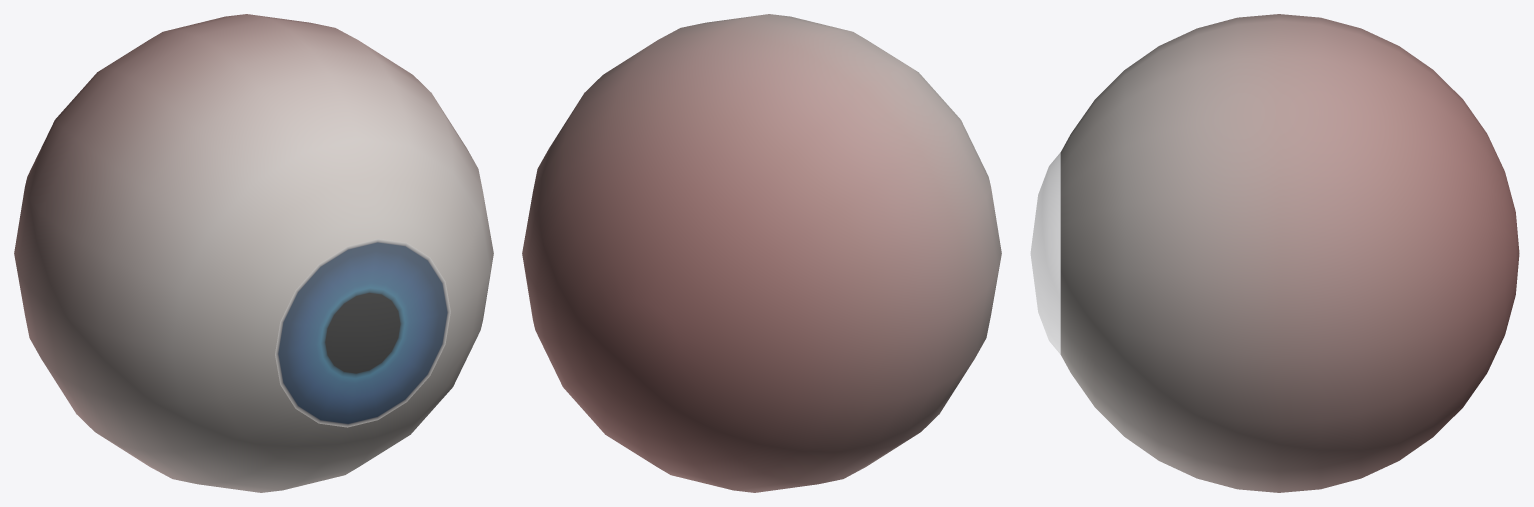
Rendered from animals-animalparts-eyeball_v1.glb.
3 renders of one model, left to right at view 1: azimuth 30°, elevation 25°; view 2: azimuth 150°, elevation 25°; view 3: azimuth 270°, elevation 25°, orthographic.
Visible parts, largest first — view 1: EyeBall_v1_base.001, EyeBall_v1_base, EyeBall_v1_transp; view 2: EyeBall_v1_base.001; view 3: EyeBall_v1_base.001, EyeBall_v1_transp.
Boxes of the visible parts, x1,y1,x2,y2 form: EyeBall_v1_base.001: (14,14,493,492); EyeBall_v1_base: (275,239,450,427); EyeBall_v1_transp: (275,239,450,427); EyeBall_v1_base.001: (522,14,1001,492); EyeBall_v1_base.001: (1060,14,1519,492); EyeBall_v1_transp: (1030,152,1060,354).
Size of the model in its own units: 0.6548 by 0.6449 by 0.666.
